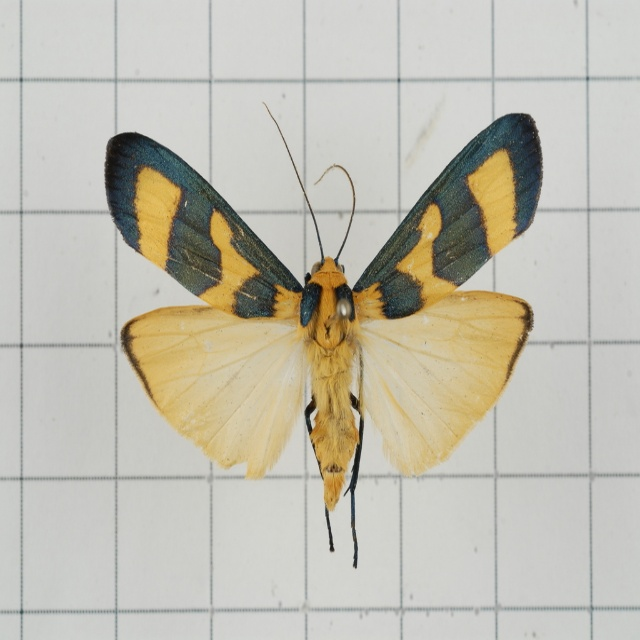Moths and butterflies: (105, 95, 542, 567)
